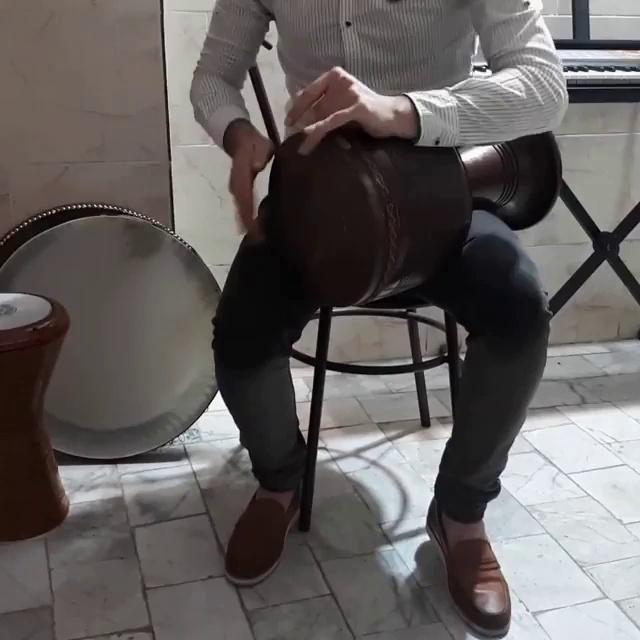Tombak: (266, 120, 566, 296)
